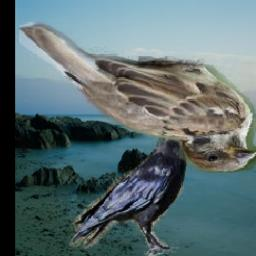Crow: (69, 117, 202, 256)
Sparrow: (19, 23, 256, 174)
